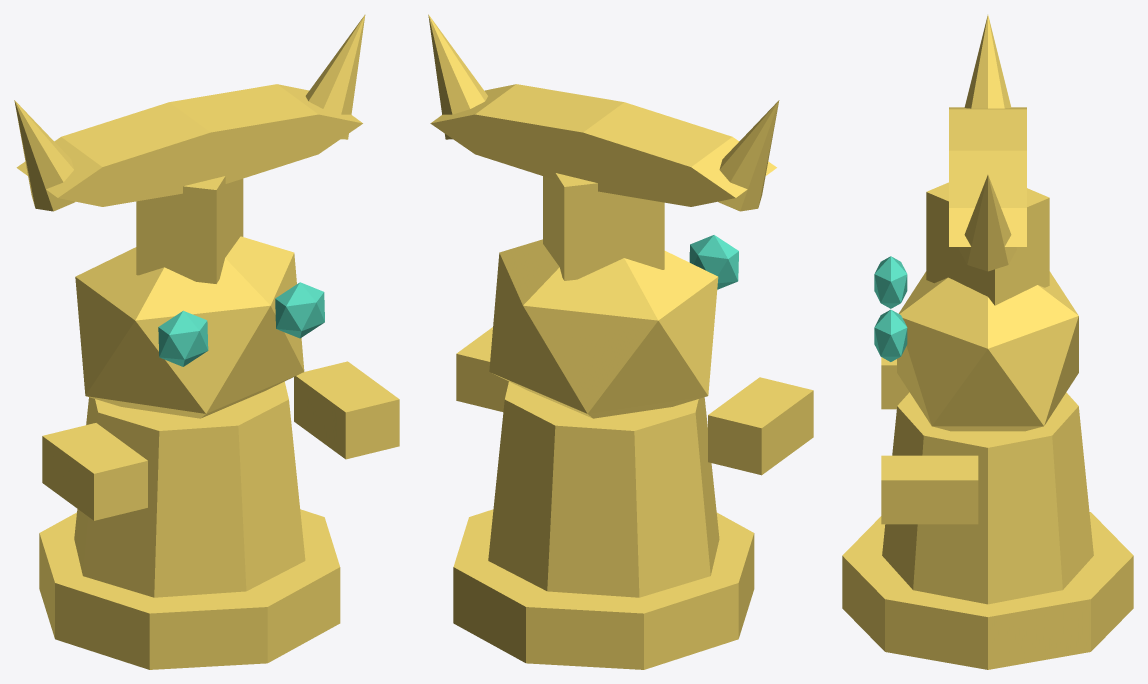
Rendered from GoldenIdol.fbx.
The picture shows the model from 3 angles, left to right: view 1: azimuth 30°, elevation 25°; view 2: azimuth 150°, elevation 25°; view 3: azimuth 270°, elevation 25°; orthographic projection. The views are drawn at different scales.
Parts seen in each view (by area): view 1: GoldenIdol; view 2: GoldenIdol; view 3: GoldenIdol.
Part boxes in pixels (box(x1,y1,x2,y2)): GoldenIdol: box(14, 14, 399, 669); GoldenIdol: box(428, 14, 813, 669); GoldenIdol: box(842, 15, 1133, 669).
Size of the model in its own units: 0.3907 by 0.5844 by 0.3.
